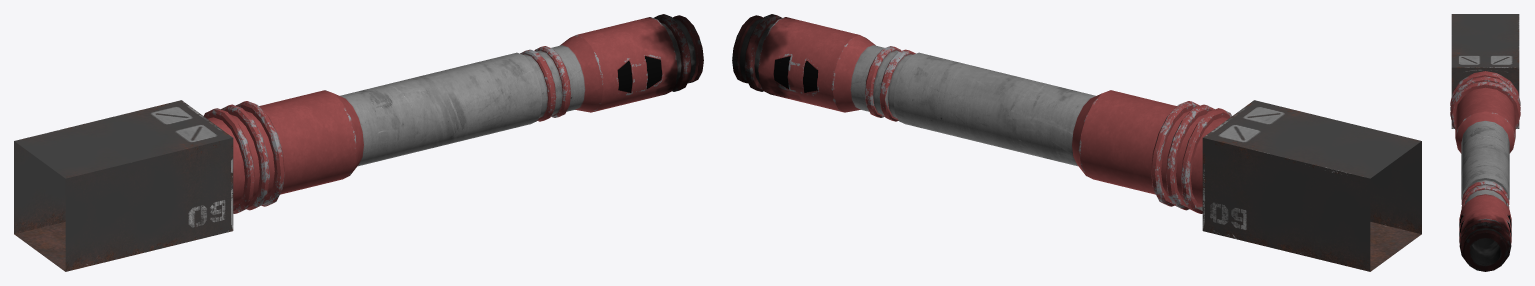
Rendered from AntiTankTurret_Barrel.fbx.
3 renders of one model, left to right at view 1: azimuth 30°, elevation 25°; view 2: azimuth 150°, elevation 25°; view 3: azimuth 270°, elevation 25°, orthographic. The views are drawn at different scales.
Parts seen in each view (by area): view 1: SM_AntiTankTurret_Barrel; view 2: SM_AntiTankTurret_Barrel; view 3: SM_AntiTankTurret_Barrel.
Boxes of the visible parts, x1,y1,x2,y2 form: SM_AntiTankTurret_Barrel: (14, 14, 703, 271); SM_AntiTankTurret_Barrel: (732, 14, 1421, 271); SM_AntiTankTurret_Barrel: (1450, 14, 1520, 271).
Bounding box in the file's own units: 436 × 62.68 × 62.68.
